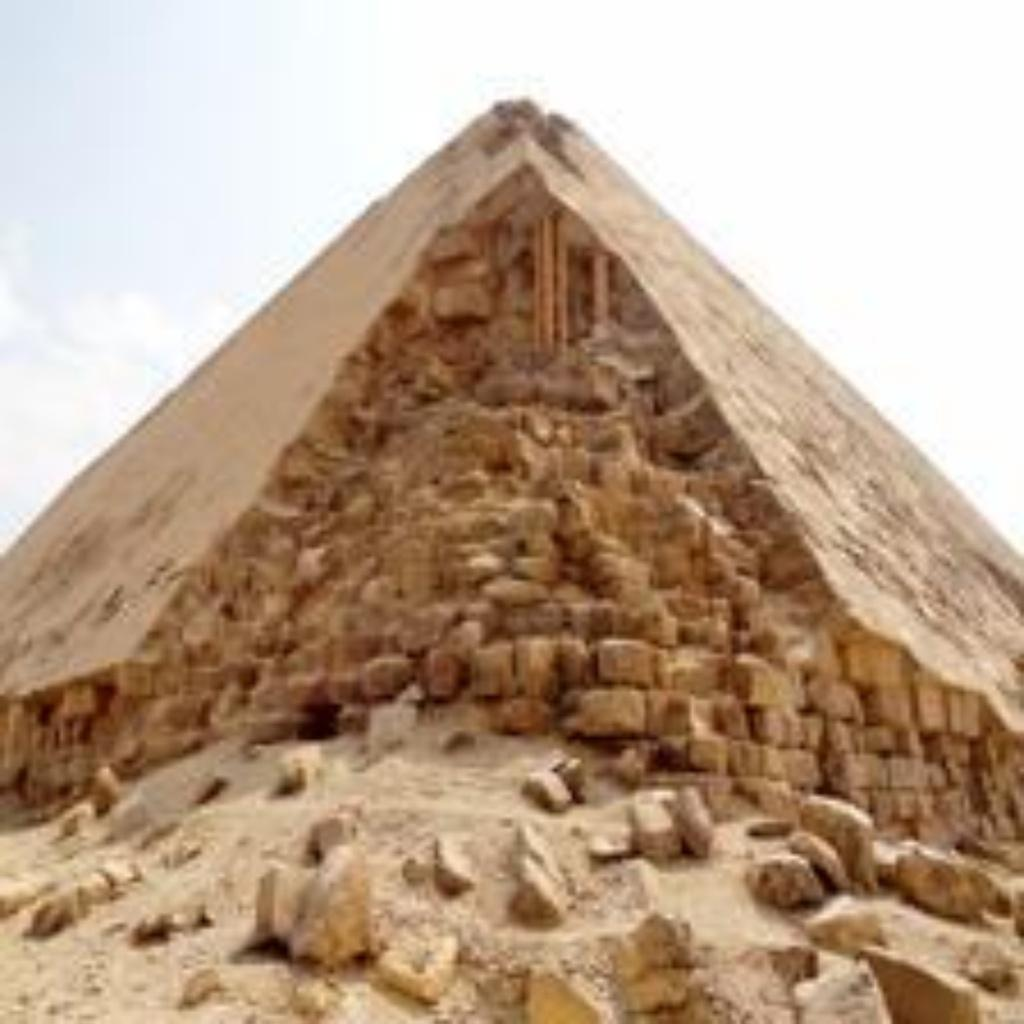Bent Pyramid of King Sneferu: (0, 86, 1019, 860)
